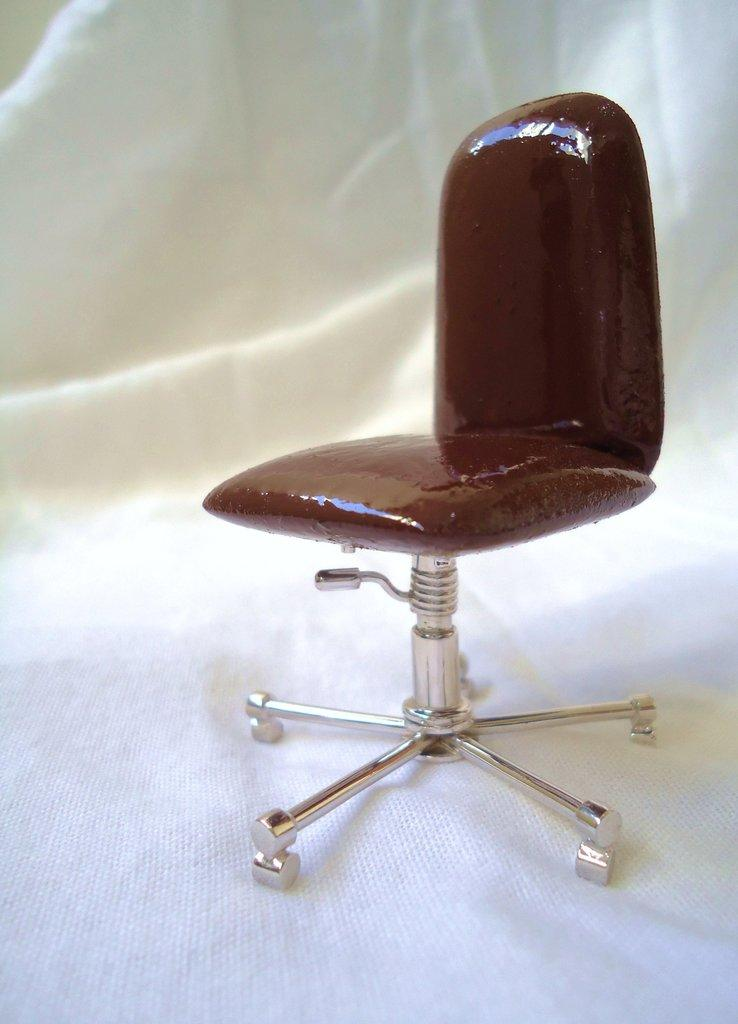Chair: (200, 88, 664, 890)
